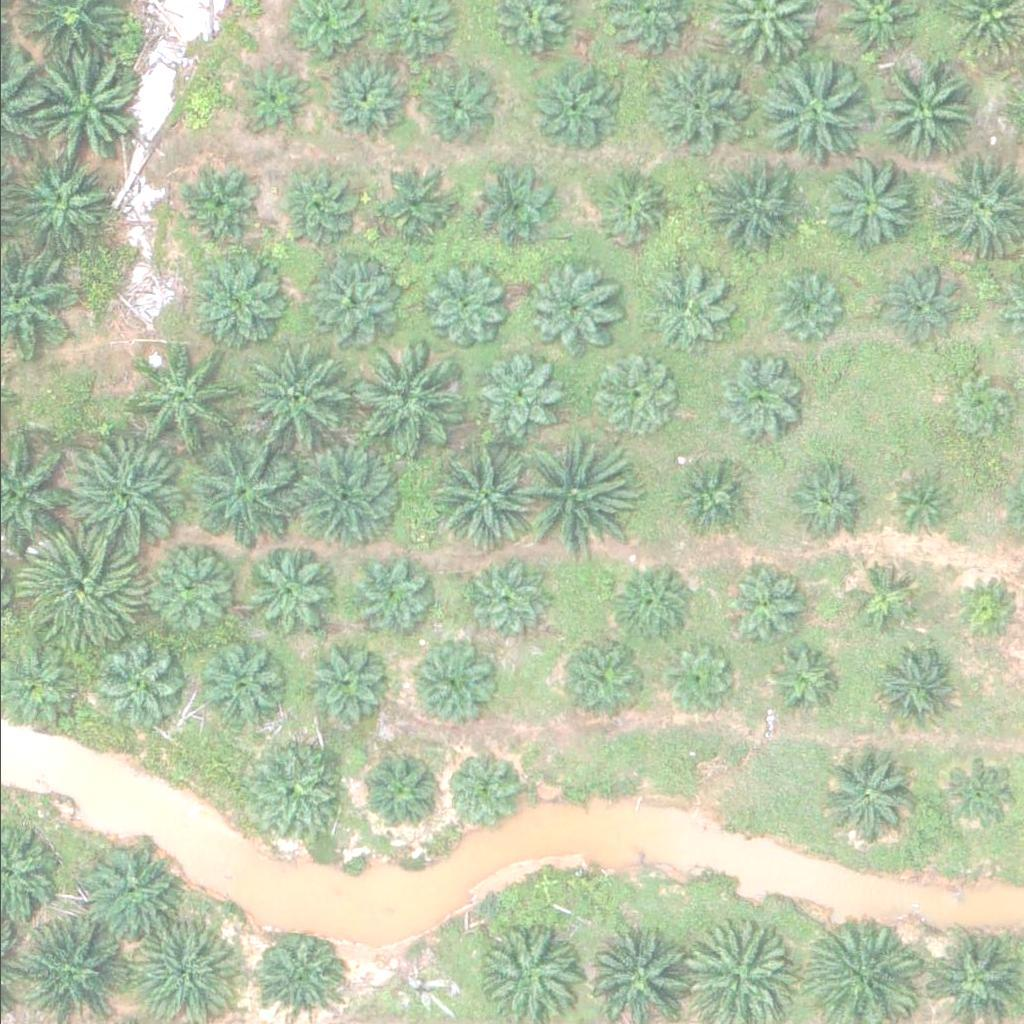Kelapa_Sawit: (289, 433, 403, 546), (26, 532, 139, 645), (513, 440, 626, 553), (192, 437, 305, 550), (688, 145, 801, 258), (751, 54, 864, 167), (64, 444, 178, 556), (865, 60, 979, 172), (420, 438, 533, 550), (126, 345, 239, 457), (235, 345, 348, 457), (347, 341, 460, 453), (26, 51, 139, 163), (815, 743, 916, 843), (246, 741, 347, 841), (185, 633, 286, 733), (292, 250, 393, 350), (813, 154, 914, 254), (646, 51, 747, 151), (11, 151, 112, 251), (78, 841, 179, 941), (140, 543, 240, 643), (236, 547, 336, 647), (187, 249, 287, 349), (721, 560, 810, 648), (933, 752, 1022, 840), (778, 458, 866, 546), (662, 446, 750, 534), (555, 630, 643, 718), (345, 553, 433, 641), (519, 262, 607, 350), (418, 262, 506, 350), (533, 62, 621, 150), (170, 161, 258, 249), (587, 163, 675, 251), (586, 352, 674, 440), (873, 261, 961, 349), (869, 646, 957, 734), (258, 929, 346, 1016), (607, 559, 695, 646), (459, 552, 547, 639), (402, 641, 490, 728), (356, 748, 444, 835), (86, 642, 174, 729), (307, 637, 395, 724), (408, 60, 496, 147), (324, 61, 412, 148), (280, 159, 368, 246), (377, 167, 465, 254), (474, 159, 562, 246), (715, 354, 803, 441), (473, 351, 561, 438), (642, 265, 730, 352), (764, 269, 840, 344), (654, 642, 730, 717), (239, 62, 315, 137), (441, 751, 517, 826), (881, 465, 957, 540), (844, 557, 919, 632), (939, 371, 1014, 446), (760, 645, 835, 720), (948, 572, 1023, 647)
